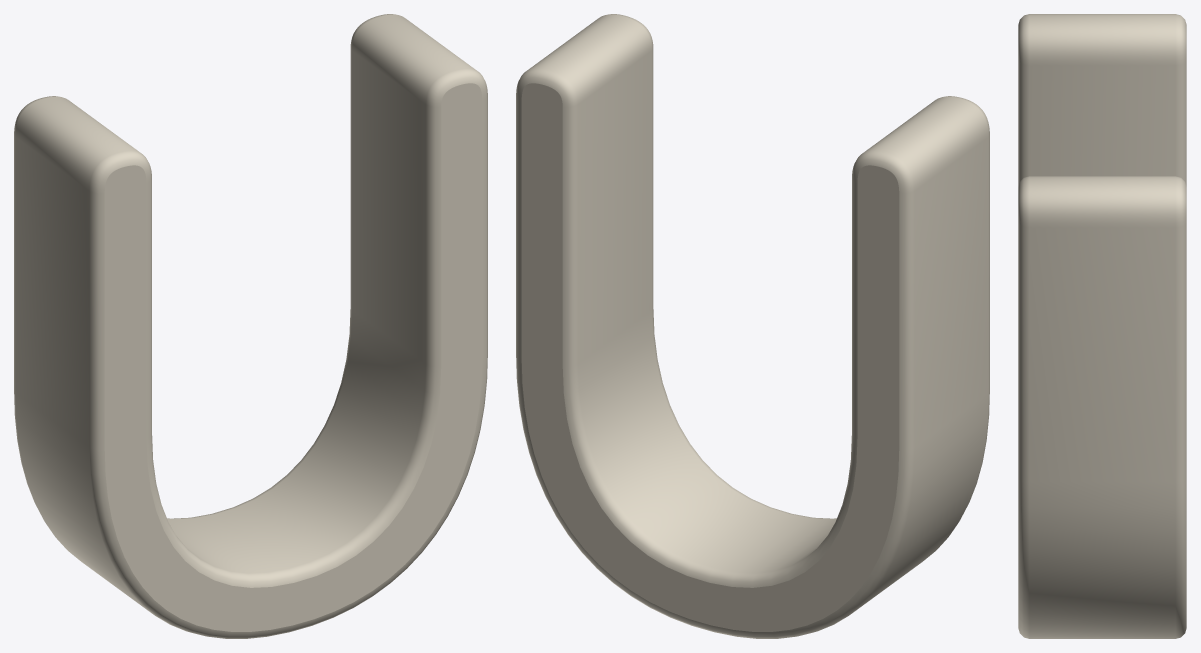
Rendered from letter_u.glb.
3 views of the same model, side by side, from view 1: azimuth 30°, elevation 25°; view 2: azimuth 150°, elevation 25°; view 3: azimuth 270°, elevation 25° (orthographic).
Parts seen in each view (by area): view 1: color_body; view 2: color_body; view 3: color_body.
Part boxes in pixels (bbox=[...]): color_body: bbox=[14, 14, 487, 638]; color_body: bbox=[516, 14, 989, 638]; color_body: bbox=[1018, 14, 1186, 638].
Bounding box in the file's own units: 0.652 × 0.816 × 0.242.
